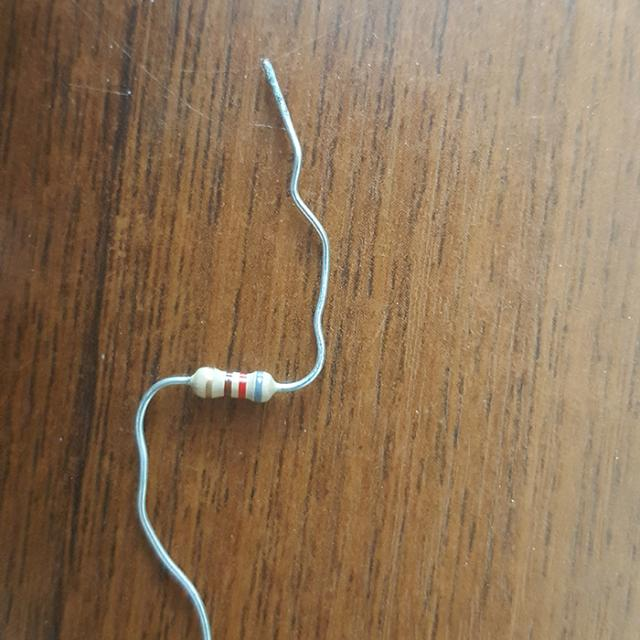brown: (224, 373, 231, 396)
gold: (206, 373, 212, 397)
grey: (255, 372, 262, 401)
red: (238, 375, 245, 397)
resistor: (183, 355, 284, 423)
